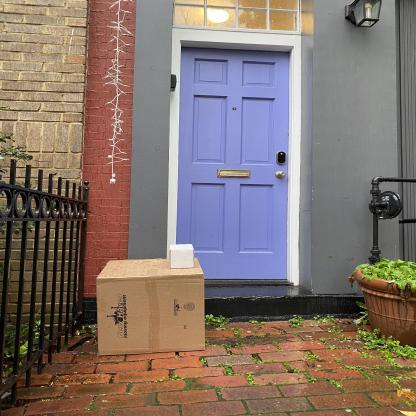package: (94, 257, 210, 358), (166, 242, 196, 271)
